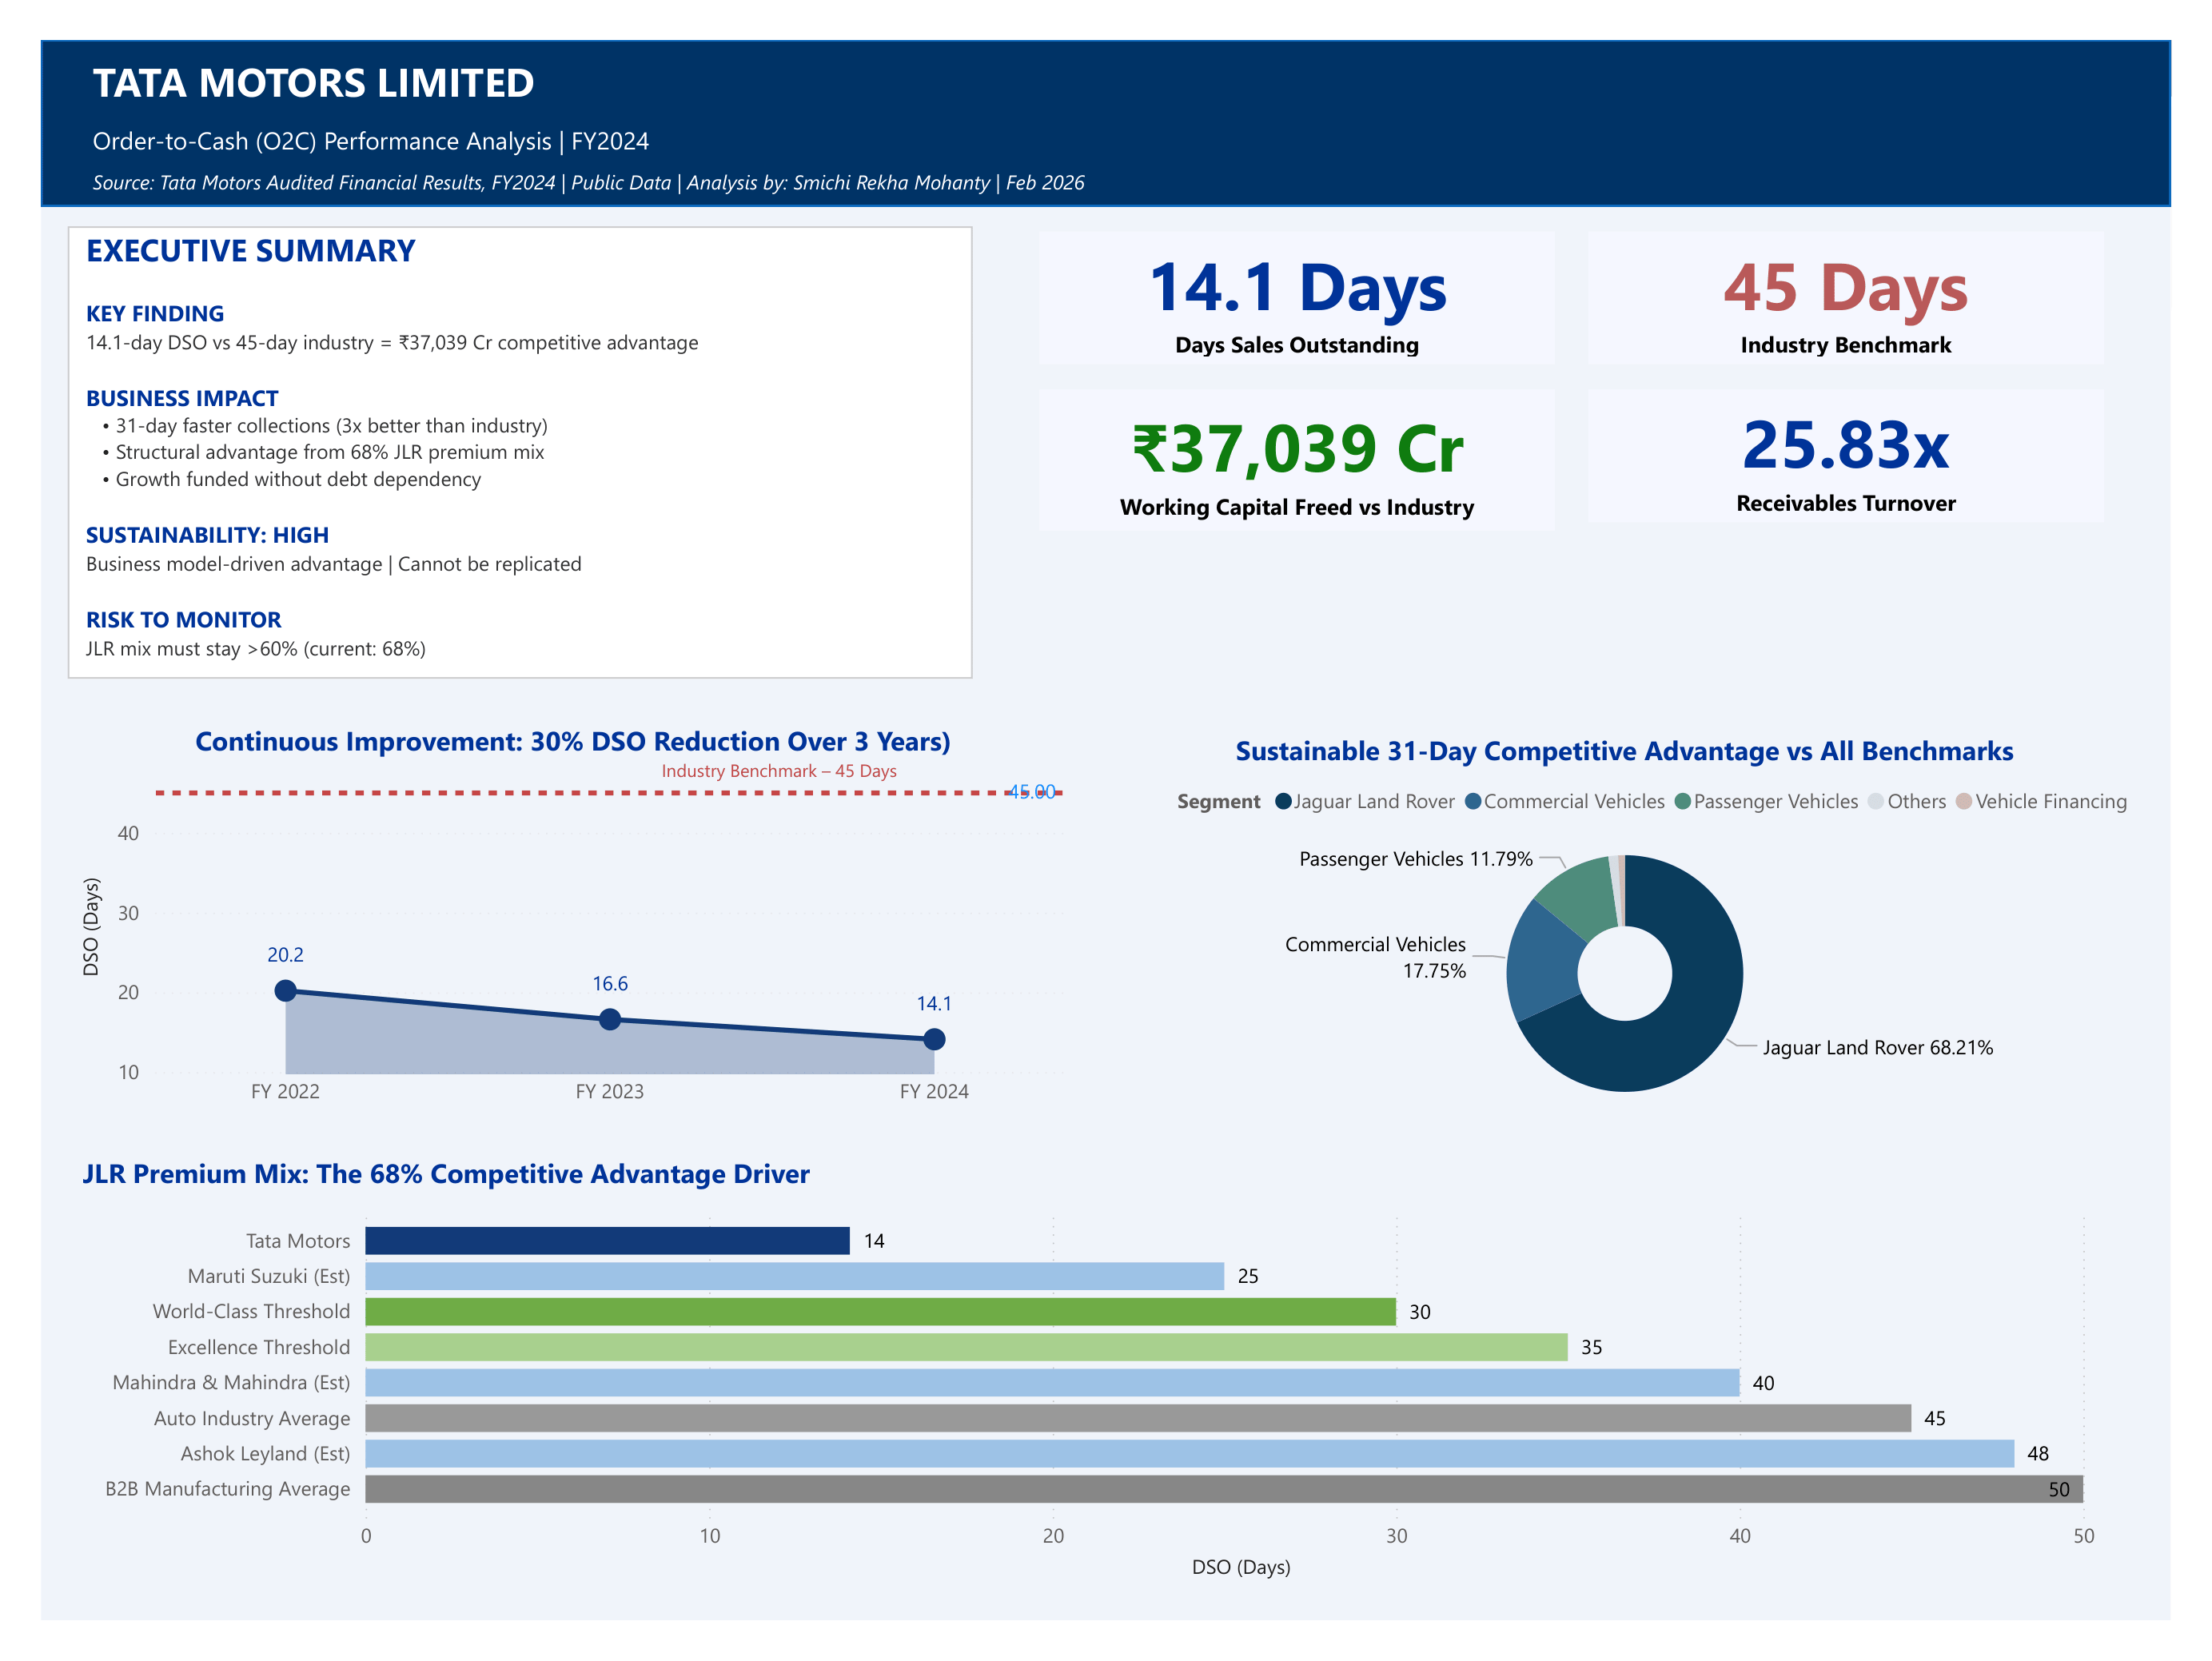

What the dashboard file says about the page in this screenshot:
{"tool":"powerbi","page":{"name":"O2C Performance Overview","canvas":[1280,950],"ordinal":0},"visuals":[{"type":"card","title":"Days Sales Outstanding","fields":{"Values":["Monthly DSO Trend.Days Sales Outstanding"]},"box":[600,115,310,80],"z":0},{"type":"card","fields":{"Values":["Benchmark Comparison.Industry_Benchmark"]},"box":[930,115,310,80],"z":1000},{"type":"card","fields":{"Values":["Benchmark Comparison.WC_Advantage"]},"box":[600,210,310,85],"z":2000},{"type":"card","fields":{"Values":["Benchmark Comparison.Receivables_Turnover"]},"box":[930,210,310,80],"z":3000},{"type":"lineChart","title":"Continuous Improvement: 30% DSO Reduction Over 3 Years)","fields":{"Category":["YoY Trends.Fiscal_Year"],"Y":["Avg(YoY Trends.DSO)"]},"box":[20,410,600,240],"z":4000},{"type":"donutChart","title":"Sustainable 31-Day Competitive Advantage vs All Benchmarks","fields":{"Category":["Segment Analysis.Segment"],"Y":["Sum(Segment Analysis.Revenue_Cr)"]},"box":[640,416,624,240],"z":5000},{"type":"clusteredBarChart","title":"JLR Premium Mix: The 68% Competitive Advantage Driver","fields":{"Category":["Benchmark Comparison.Company_Category"],"Y":["Sum(Benchmark Comparison.DSO_Days)"]},"box":[20,670,1240,260],"z":6000},{"type":"textbox","title":"TATA MOTORS LIMITED","box":[16,112,544,272],"z":7000},{"type":"shape","box":[0,0,1280,100],"z":8000},{"type":"textbox","box":[20.7,8,1000,42],"z":9000},{"type":"textbox","box":[20.7,50,1000,27],"z":10000},{"type":"textbox","box":[20.7,76.4,1000,23.9],"z":11000},{"type":"textbox","box":[368,424,160,24],"z":12000}]}

Visuals, with their boxes on the page's 1280x950 design canvas (x1, y1, x2, y2). These are canvas units, not pixel positions in the 2212x1661 screenshot, which may show the page scaled, cropped or inside an application window:
"Days Sales Outstanding" card: rect(600, 115, 910, 195)
card - Benchmark Comparison.Industry_Benchmark: rect(930, 115, 1240, 195)
card - Benchmark Comparison.WC_Advantage: rect(600, 210, 910, 295)
card - Benchmark Comparison.Receivables_Turnover: rect(930, 210, 1240, 290)
"Continuous Improvement: 30% DSO Reduction Over 3 Years)" lineChart: rect(20, 410, 620, 650)
"Sustainable 31-Day Competitive Advantage vs All Benchmarks" donutChart: rect(640, 416, 1264, 656)
"JLR Premium Mix: The 68% Competitive Advantage Driver" clusteredBarChart: rect(20, 670, 1260, 930)
"TATA MOTORS LIMITED" textbox: rect(16, 112, 560, 384)
shape: rect(0, 0, 1280, 100)
textbox: rect(21, 8, 1021, 50)
textbox: rect(21, 50, 1021, 77)
textbox: rect(21, 76, 1021, 100)
textbox: rect(368, 424, 528, 448)
